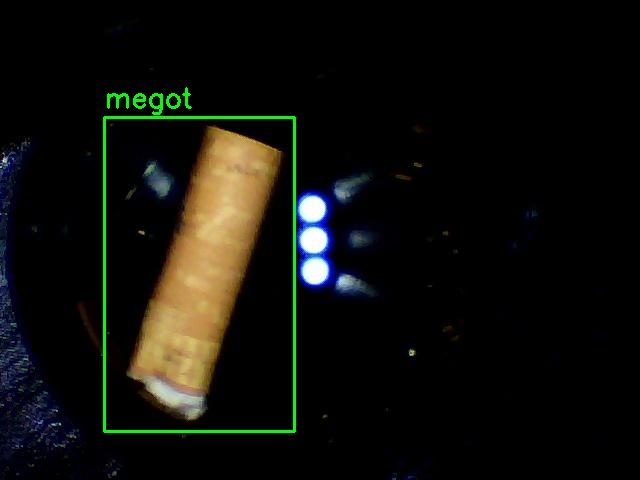megot: (104, 117, 294, 431)
